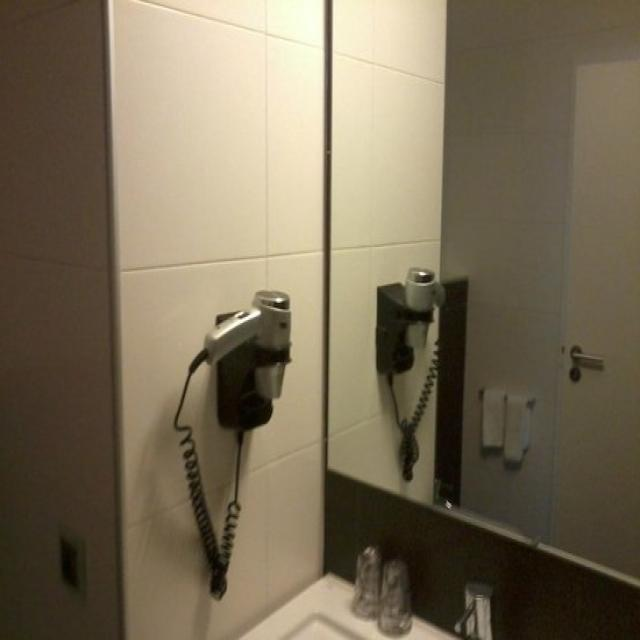dryer: (187, 280, 296, 403)
